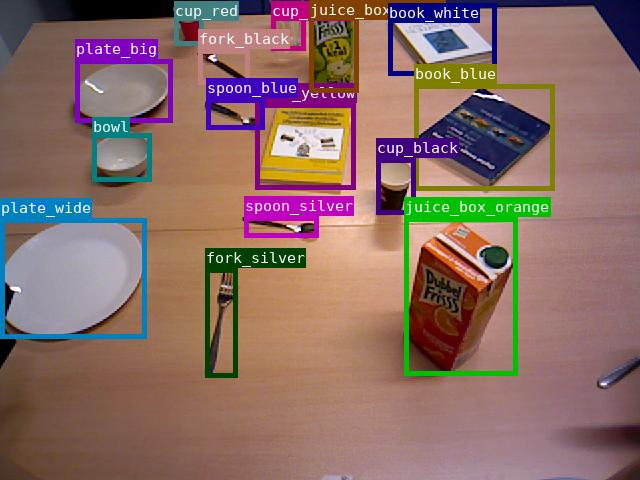book_blue: (414, 84, 554, 190)
book_white: (388, 3, 496, 75)
book_yellow: (255, 103, 355, 189)
bowl: (92, 133, 151, 181)
cup_black: (376, 158, 415, 214)
cup_glass: (271, 1, 305, 50)
cup_red: (174, 1, 203, 45)
fork_black: (198, 49, 249, 84)
fork_silver: (205, 268, 237, 377)
juice_box_green: (309, 0, 358, 92)
juice_box_orange: (404, 217, 517, 375)
plate_big: (75, 59, 172, 122)
plate_wide: (0, 218, 146, 338)
spoon_blue: (206, 98, 264, 129)
spoon_silver: (244, 216, 318, 237)
